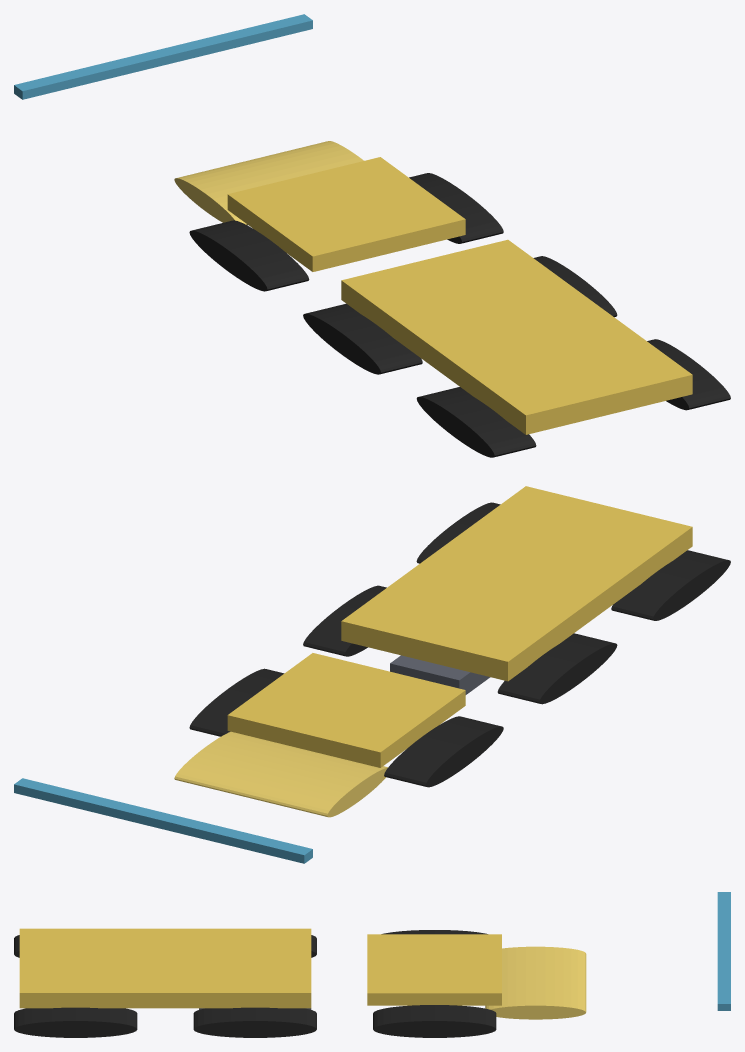
Rendered from CO_SeimonShieldCarrier_LOD0.glb.
3 renders of one model, top to bottom at view 1: azimuth 30°, elevation 25°; view 2: azimuth 150°, elevation 25°; view 3: azimuth 270°, elevation 25°, orthographic. The views are drawn at different scales.
Visible parts, largest first — view 1: Cube.003, Cube.001, Cylinder.006, Cube.002, Cylinder.002, Cylinder, Cylinder.001, Cylinder.005, Cylinder.003, Cylinder.004; view 2: Cube.003, Cube.001, Cylinder.006, Cube.002, Cylinder.002, Cylinder.001, Cylinder, Cylinder.005, Cylinder.004, Cube, Cylinder.003; view 3: Cube.003, Cube.001, Cylinder.006, Cylinder.005, Cylinder.003, Cylinder.004, Cube.002, Cylinder.002.
Part boxes in pixels (<box>): Cube.003: <box>341,239,692,434</box>; Cube.001: <box>227,157,465,271</box>; Cylinder.006: <box>174,141,363,225</box>; Cube.002: <box>14,14,312,99</box>; Cylinder.002: <box>189,220,309,291</box>; Cylinder: <box>416,387,536,457</box>; Cylinder.001: <box>303,303,422,374</box>; Cylinder.005: <box>409,173,503,243</box>; Cylinder.003: <box>647,339,730,410</box>; Cylinder.004: <box>533,256,617,317</box>; Cube.003: <box>341,486,692,681</box>; Cube.001: <box>227,653,465,767</box>; Cylinder.006: <box>174,731,387,817</box>; Cube.002: <box>14,778,312,863</box>; Cylinder.002: <box>384,716,503,787</box>; Cylinder.001: <box>497,633,617,704</box>; Cylinder: <box>611,550,730,620</box>; Cylinder.005: <box>189,668,284,736</box>; Cylinder.004: <box>303,585,386,656</box>; Cube: <box>390,655,490,694</box>; Cylinder.003: <box>416,502,500,563</box>; Cube.003: <box>19,928,311,1008</box>; Cube.001: <box>367,934,501,1005</box>; Cylinder.006: <box>485,946,586,1019</box>; Cylinder.005: <box>373,1005,496,1037</box>; Cylinder.003: <box>14,1007,137,1037</box>; Cylinder.004: <box>193,1007,316,1037</box>; Cube.002: <box>717,892,730,1010</box>; Cylinder.002: <box>381,930,487,934</box>.
Size of what is drawn, in the model's own units: 10.87 by 2.36 by 29.39.
